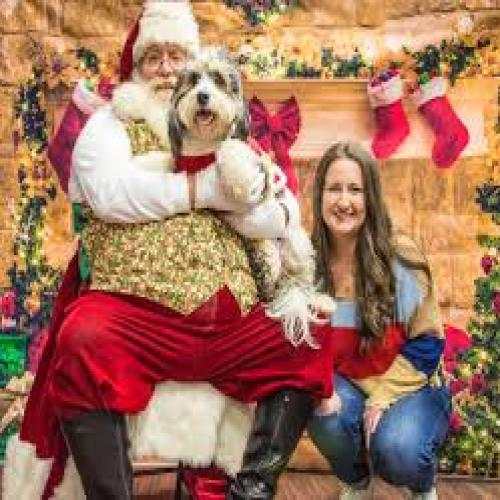Santa: (49, 1, 332, 500)
